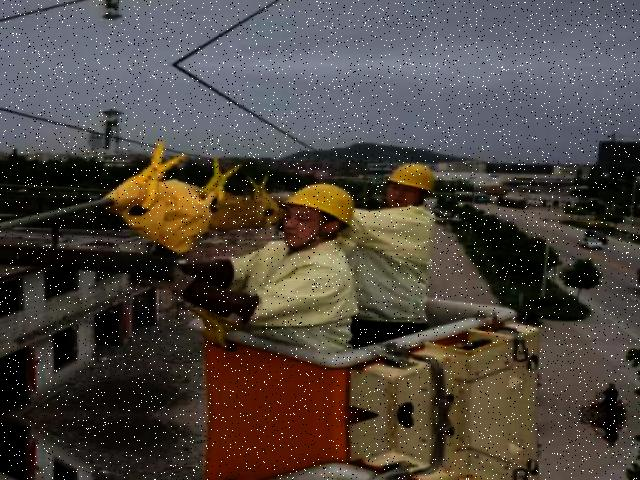Helmet: (277, 181, 363, 230), (388, 158, 440, 197)
